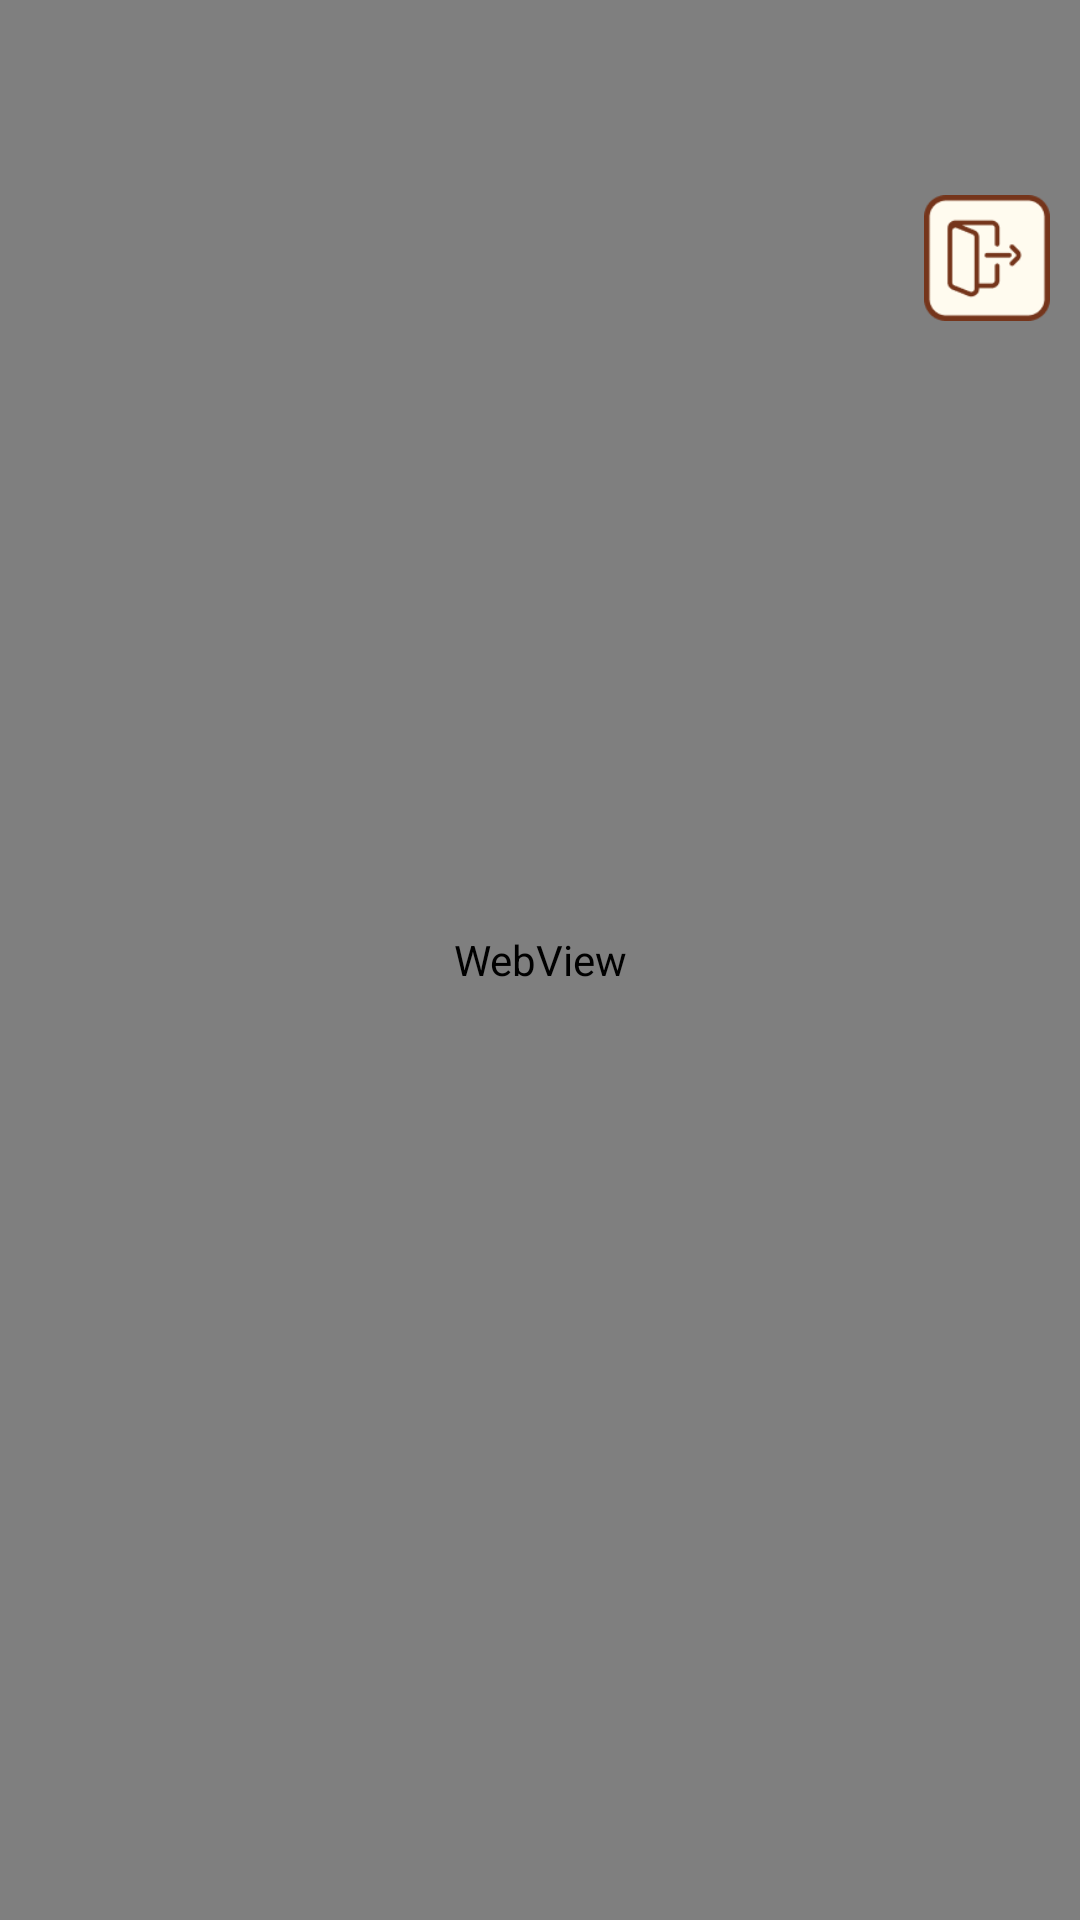

Icons on this 1080 x 1920 Android screen, each with the point to tap as [x,y]:
imv cancle: [987,258]
